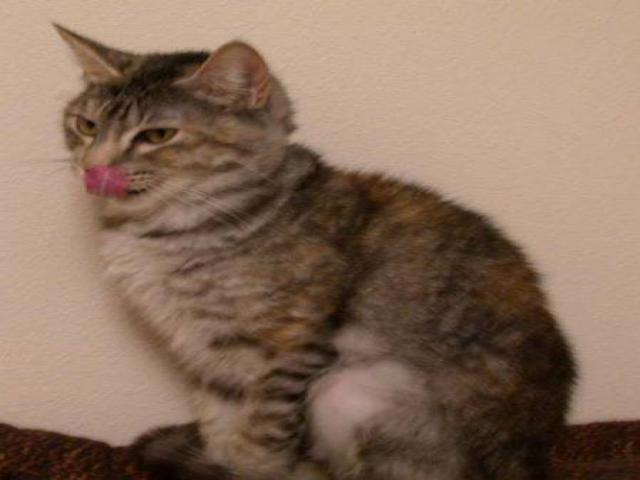cat: (43, 24, 582, 478)
